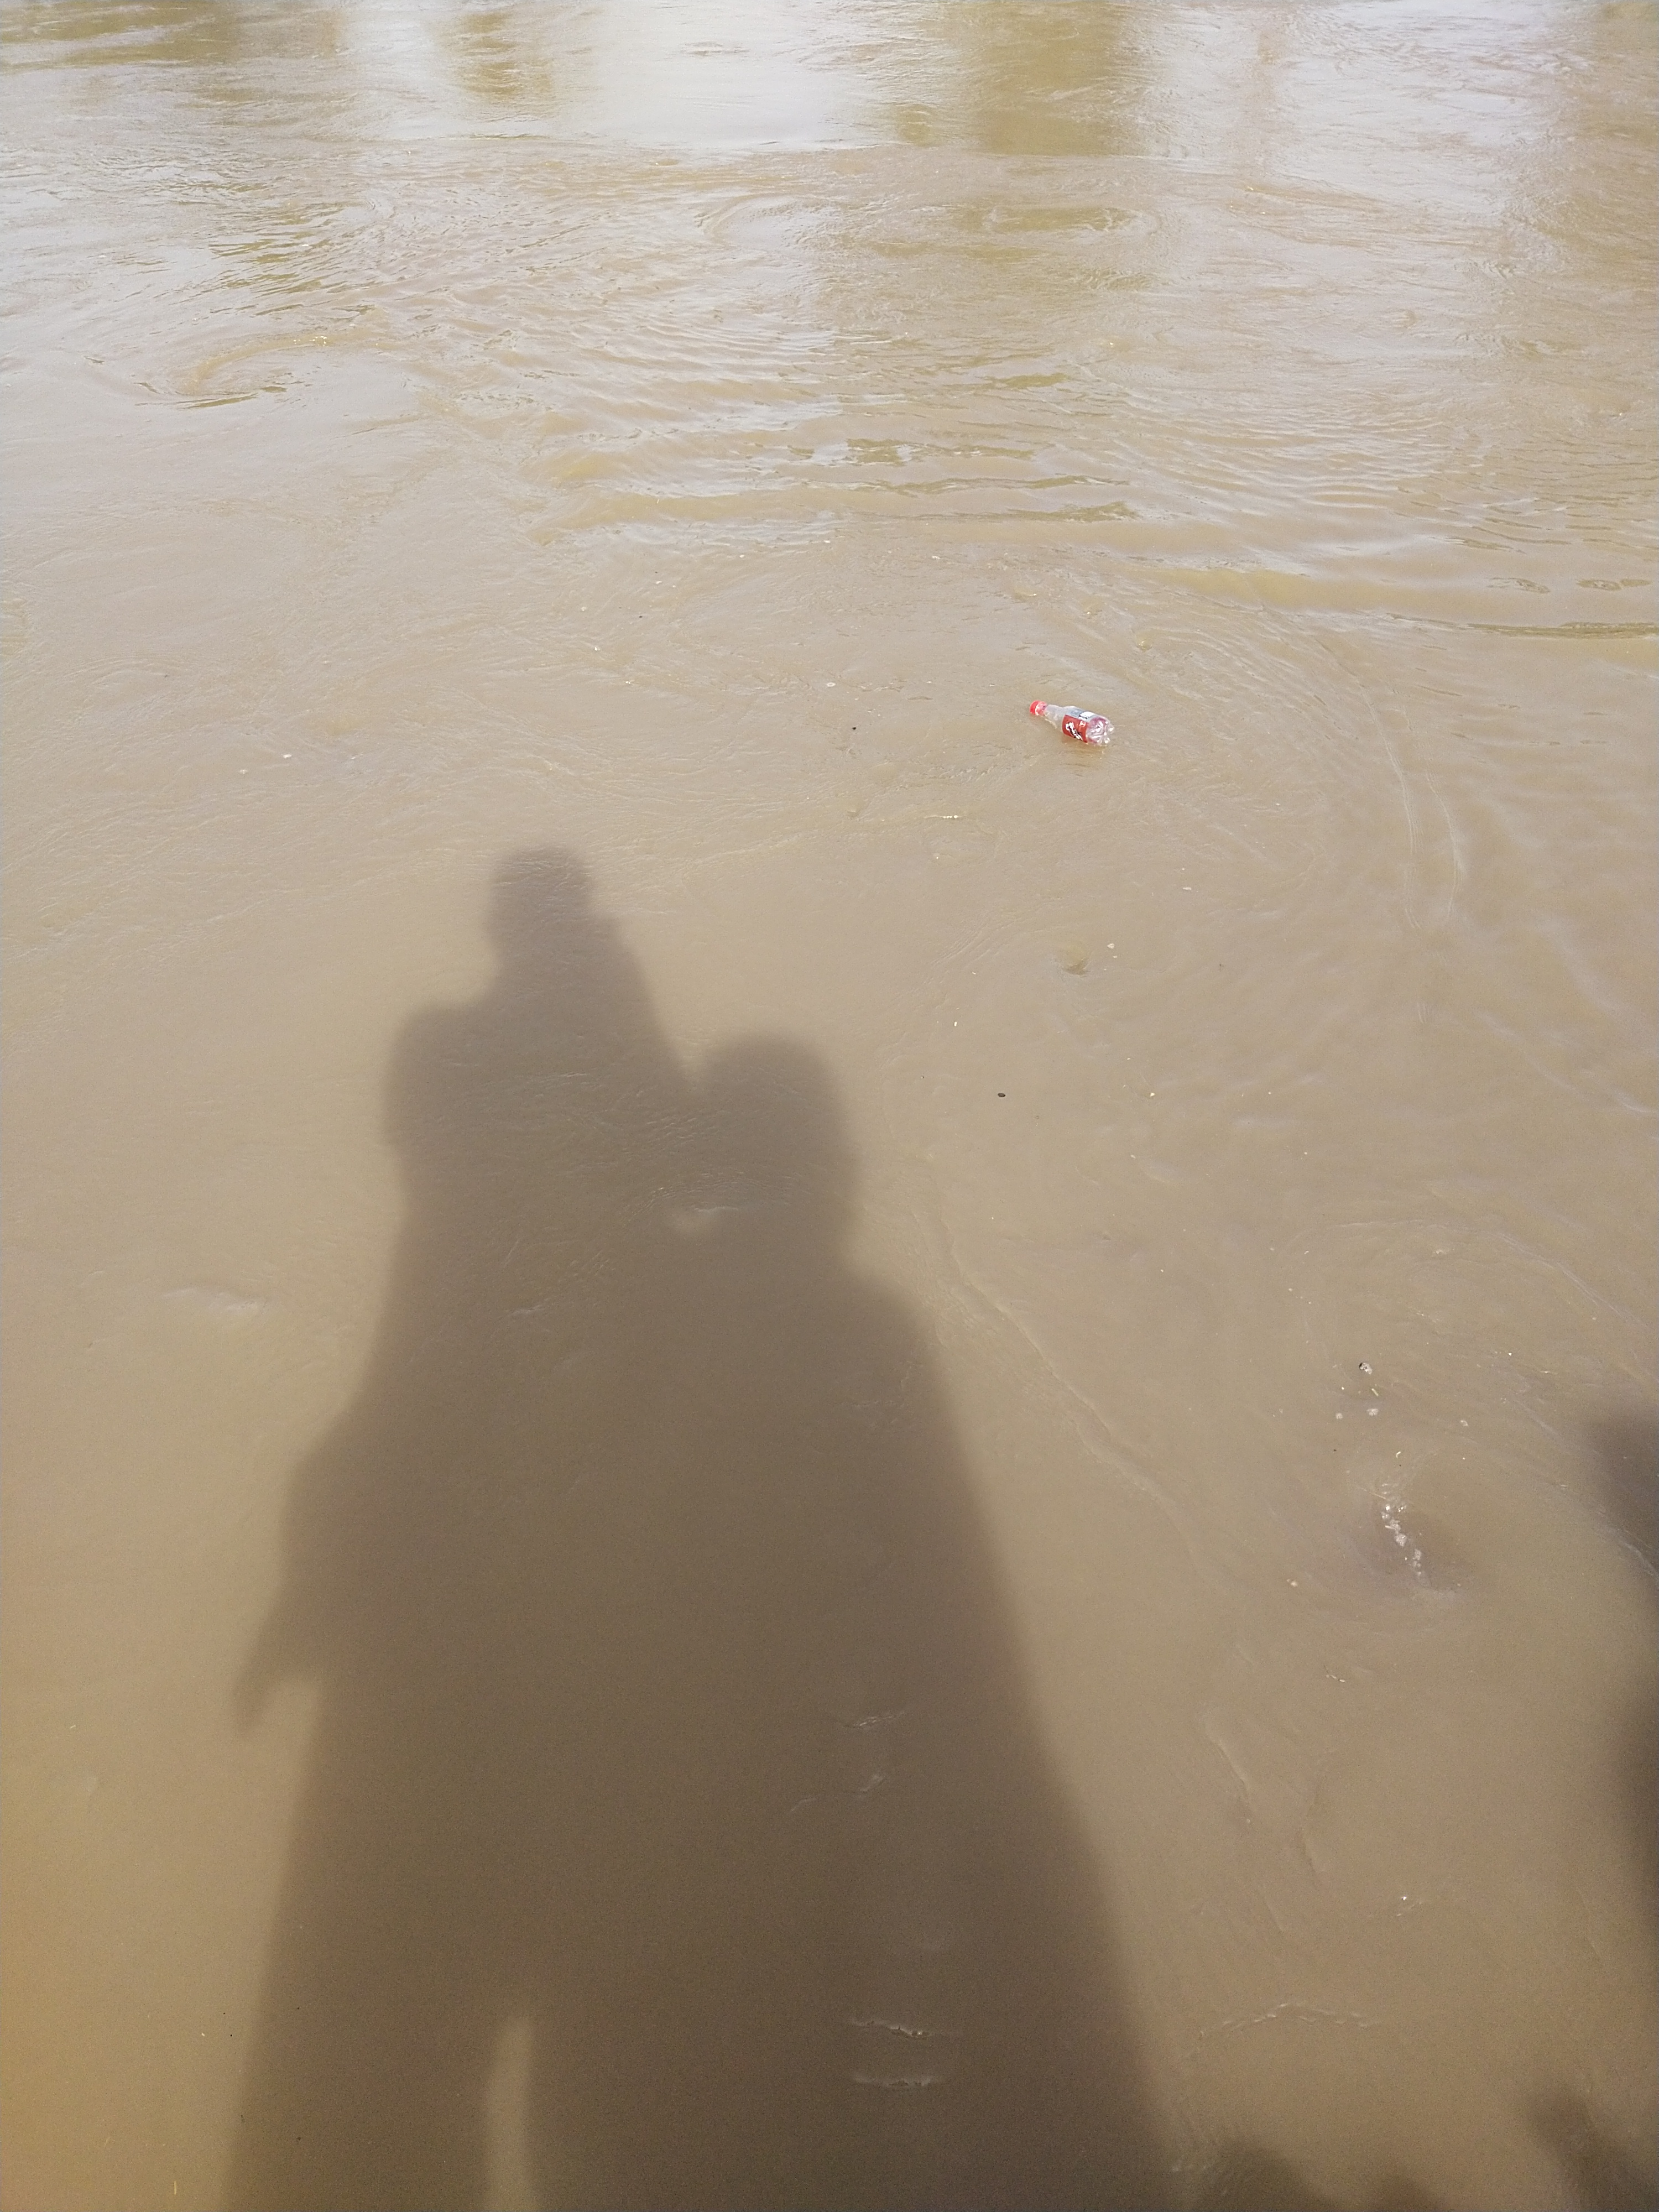Plastic Bottle: (1030, 698, 1114, 745)
